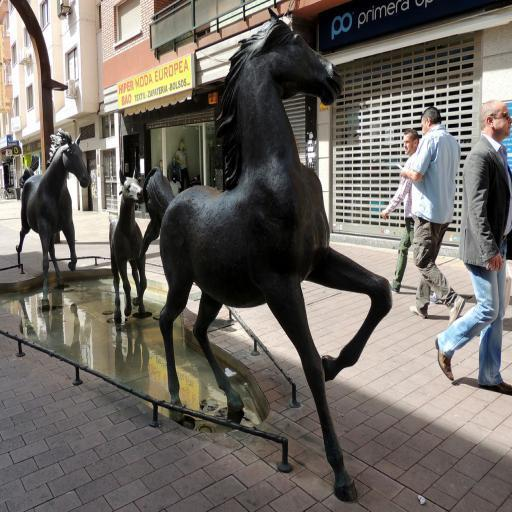horse: (137, 3, 395, 506), (15, 126, 93, 310), (108, 168, 146, 328)
